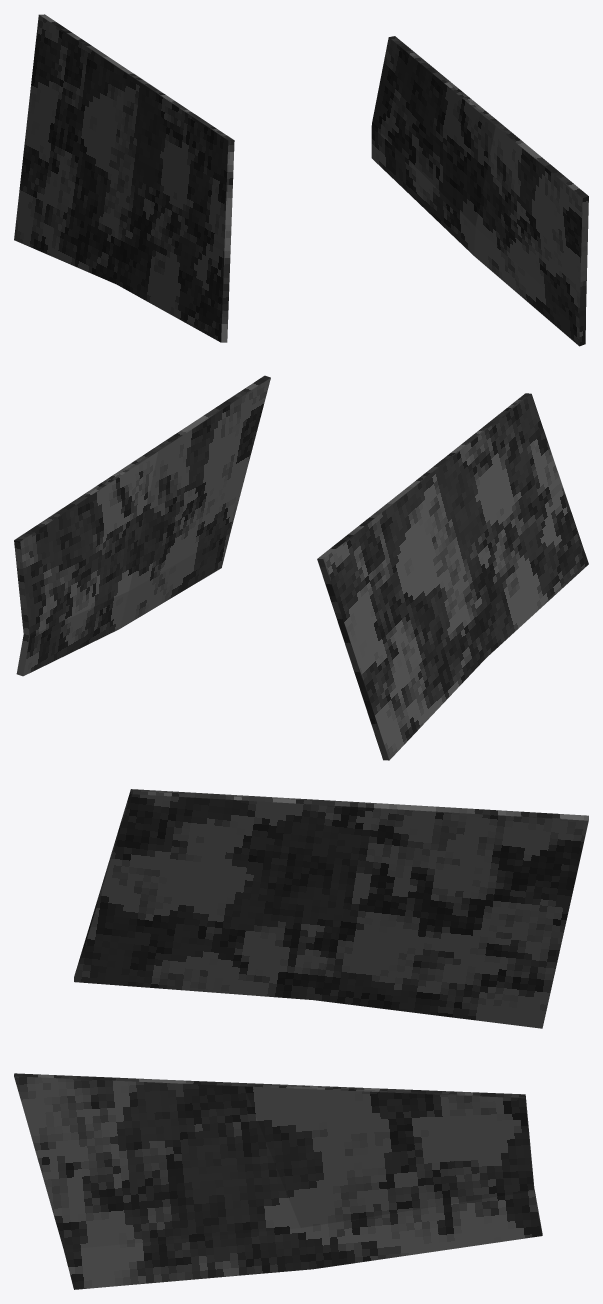
The model's file is F7RearLandingGearLeftFlaps.glb.
3 views of the same model, one above another, from view 1: azimuth 30°, elevation 25°; view 2: azimuth 150°, elevation 25°; view 3: azimuth 270°, elevation 25° (orthographic). The views are drawn at different scales.
Parts seen in each view (by area): view 1: ladning gear rr.003, ladning gear rr.002; view 2: ladning gear rr.003, ladning gear rr.002; view 3: ladning gear rr.003, ladning gear rr.002.
Boxes of the visible parts, left/top/right/bottom form: ladning gear rr.003: left=14, top=14, right=234, bottom=342; ladning gear rr.002: left=371, top=36, right=588, bottom=346; ladning gear rr.003: left=317, top=393, right=588, bottom=760; ladning gear rr.002: left=14, top=375, right=270, bottom=676; ladning gear rr.003: left=74, top=789, right=588, bottom=1028; ladning gear rr.002: left=14, top=1073, right=542, bottom=1289.
Size of the model in its own units: 5.94 by 4.07 by 6.78.
1 material, 1 textured.
